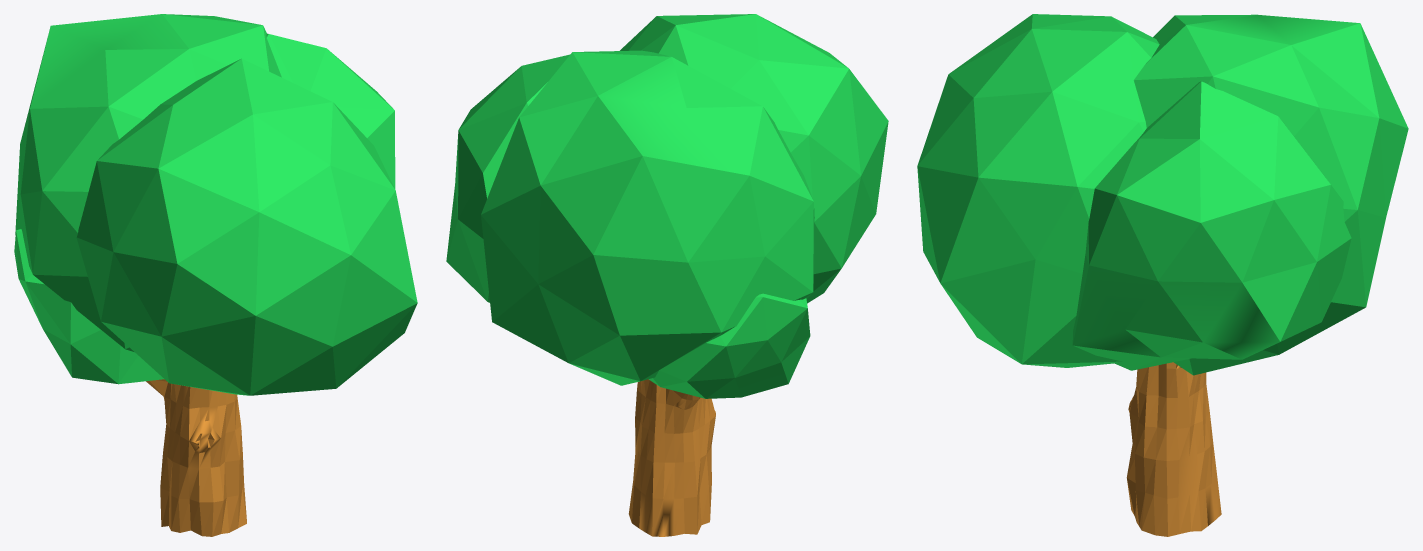
Rendered from tree_level1.glb.
3 renders of one model, left to right at view 1: azimuth 30°, elevation 25°; view 2: azimuth 150°, elevation 25°; view 3: azimuth 270°, elevation 25°, orthographic. The views are drawn at different scales.
Parts seen in each view (by area): view 1: Cylinder.001; view 2: Cylinder.001; view 3: Cylinder.001.
Part boxes in pixels (left/top/right/bottom): Cylinder.001: left=14, top=14, right=417, bottom=536; Cylinder.001: left=446, top=14, right=888, bottom=536; Cylinder.001: left=917, top=14, right=1408, bottom=536.
Size of the model in its own units: 0.5361 by 0.7091 by 0.6359.
